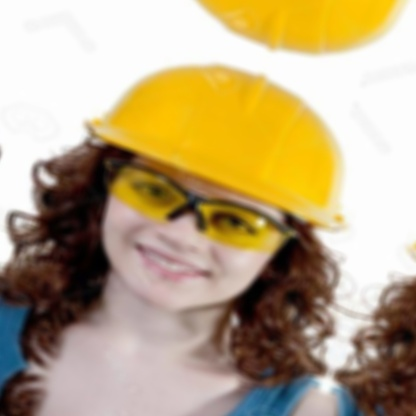yellow: (71, 19, 394, 241)
